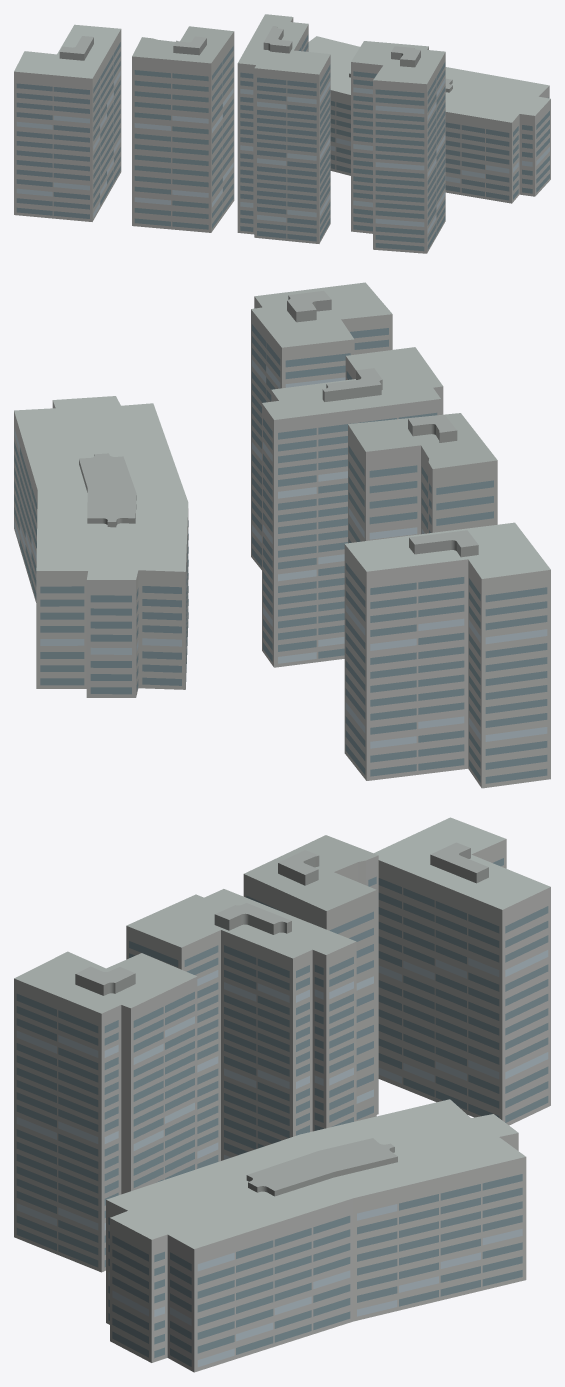
Rendered from apt-a10023891.glb.
The picture shows the model from 3 angles, top to bottom: view 1: azimuth 30°, elevation 25°; view 2: azimuth 150°, elevation 25°; view 3: azimuth 270°, elevation 25°; orthographic projection. The views are drawn at different scales.
Visible parts, largest first — view 1: apt-a10023891; view 2: apt-a10023891; view 3: apt-a10023891.
Boxes of the visible parts, x1,y1,x2,y2 form: apt-a10023891: (14,14,550,253); apt-a10023891: (14,282,550,788); apt-a10023891: (14,817,550,1372).
Bounding box in the file's own units: 161 × 60 × 108.
